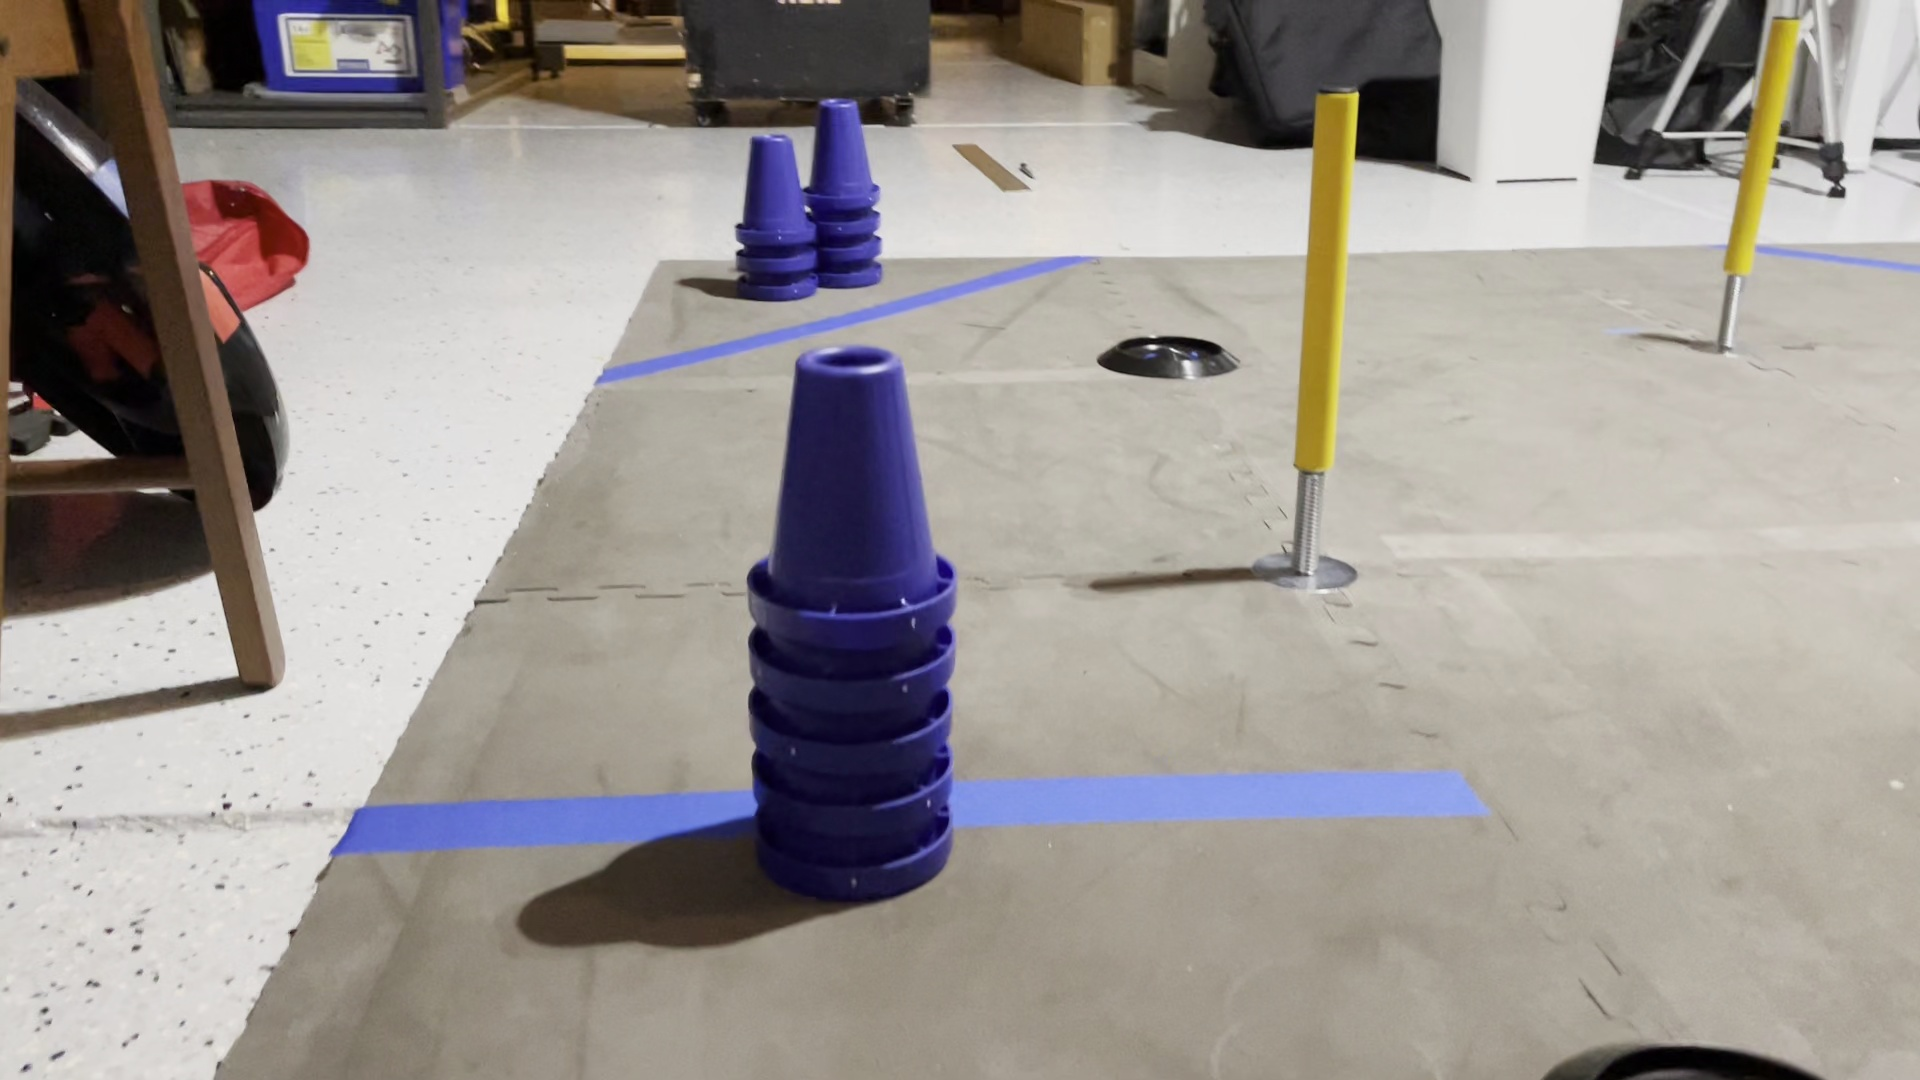cone: (733, 336, 967, 914), (795, 88, 889, 293), (729, 131, 824, 309)
